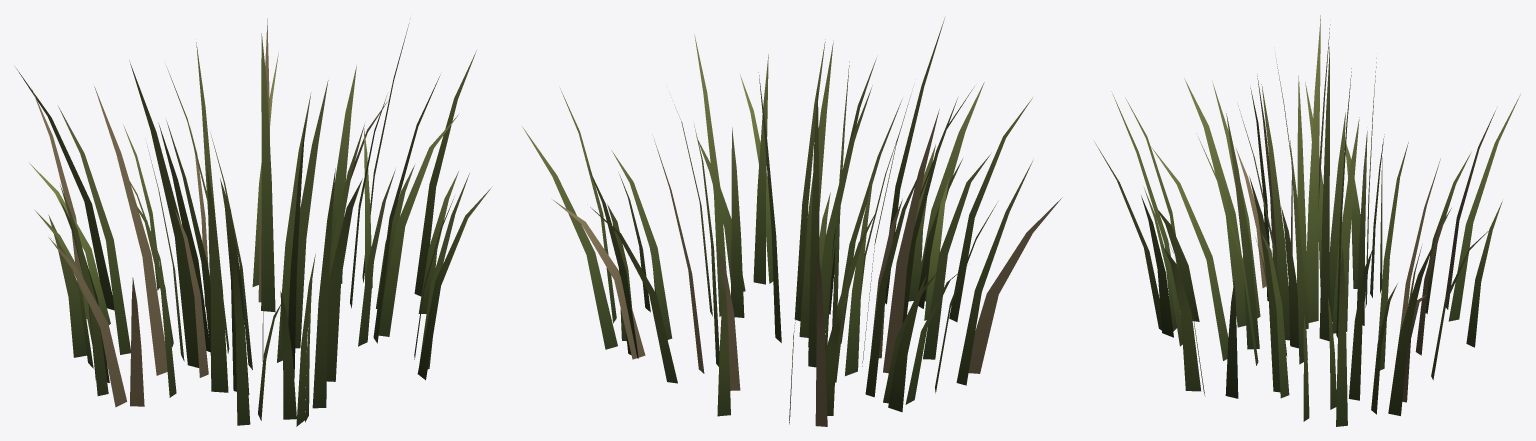
Rendered from marsh-grass-lod1.glb.
3 renders of one model, left to right at view 1: azimuth 30°, elevation 25°; view 2: azimuth 150°, elevation 25°; view 3: azimuth 270°, elevation 25°, orthographic. The views are drawn at different scales.
Visible parts, largest first — view 1: MarshGrass_LOD1; view 2: MarshGrass_LOD1; view 3: MarshGrass_LOD1.
Part boxes in pixels (left/top/right/bottom): MarshGrass_LOD1: left=15, top=18, right=492, bottom=426; MarshGrass_LOD1: left=522, top=18, right=1062, bottom=426; MarshGrass_LOD1: left=1094, top=15, right=1520, bottom=426.
Bounding box in the file's own units: 1.96 × 1.25 × 1.72.
